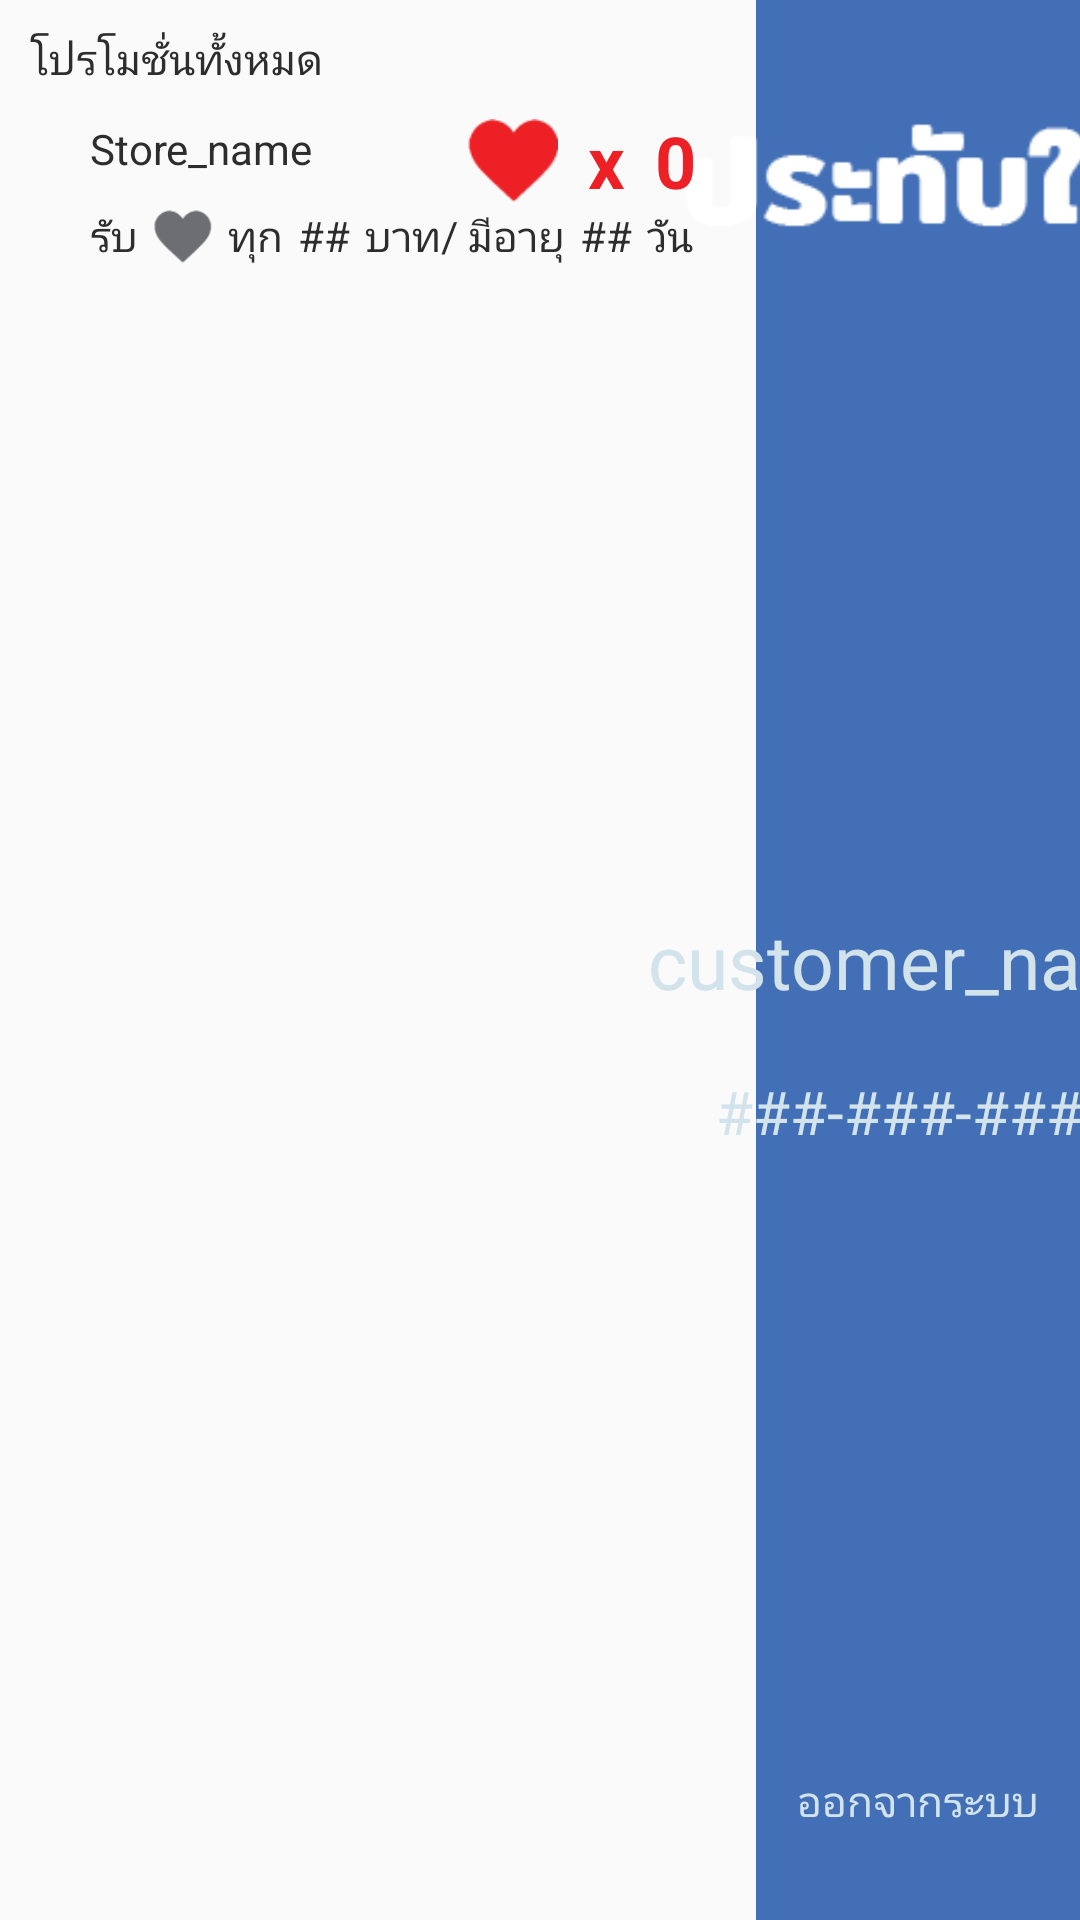

Screen size 1080px×1920px. Icon name, then its box in pixels as (x1, y1, x2, y2):
heart: (468, 119, 558, 227), (154, 210, 212, 263)
